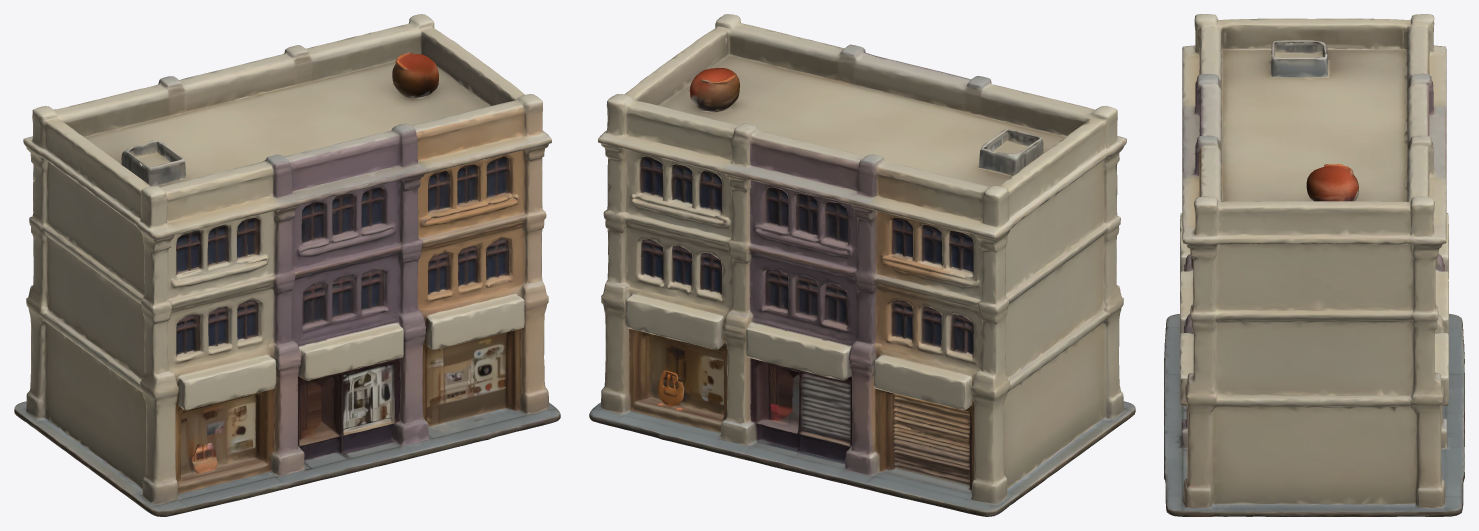
Rendered from bb_shops_right.glb.
3 renders of one model, left to right at view 1: azimuth 30°, elevation 25°; view 2: azimuth 150°, elevation 25°; view 3: azimuth 270°, elevation 25°, orthographic.
Bounding box in the file's own units: 0.9946 × 0.7366 × 0.6363.
Materials: 1 (1 with a texture image).
